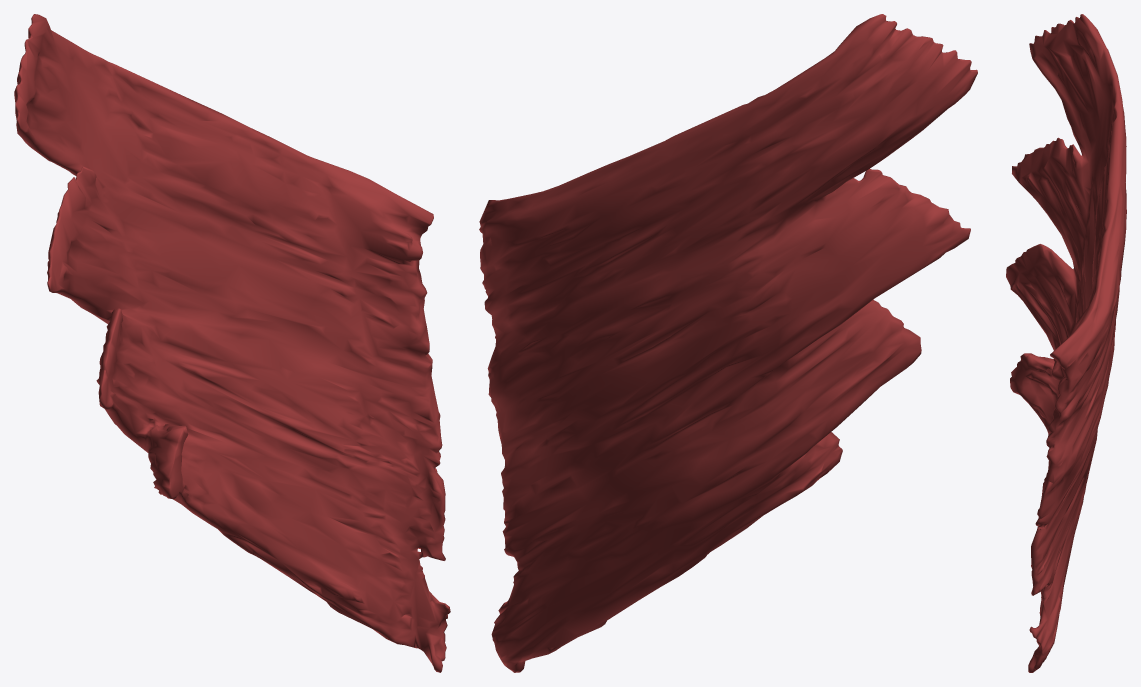
The model's file is serratus-posterior-inferior-muscle-r.glb.
3 views of the same model, side by side, from view 1: azimuth 30°, elevation 25°; view 2: azimuth 150°, elevation 25°; view 3: azimuth 270°, elevation 25° (orthographic). The views are drawn at different scales.
Visible parts, largest first — view 1: Serratus posterior inferior muscle.r; view 2: Serratus posterior inferior muscle.r; view 3: Serratus posterior inferior muscle.r.
Boxes of the visible parts, x1=… form: Serratus posterior inferior muscle.r: x1=14, y1=14, x2=450, y2=672; Serratus posterior inferior muscle.r: x1=479, y1=14, x2=977, y2=672; Serratus posterior inferior muscle.r: x1=1006, y1=14, x2=1126, y2=672.
Size of the model in its own units: 0.1137 by 0.1786 by 0.0371.
